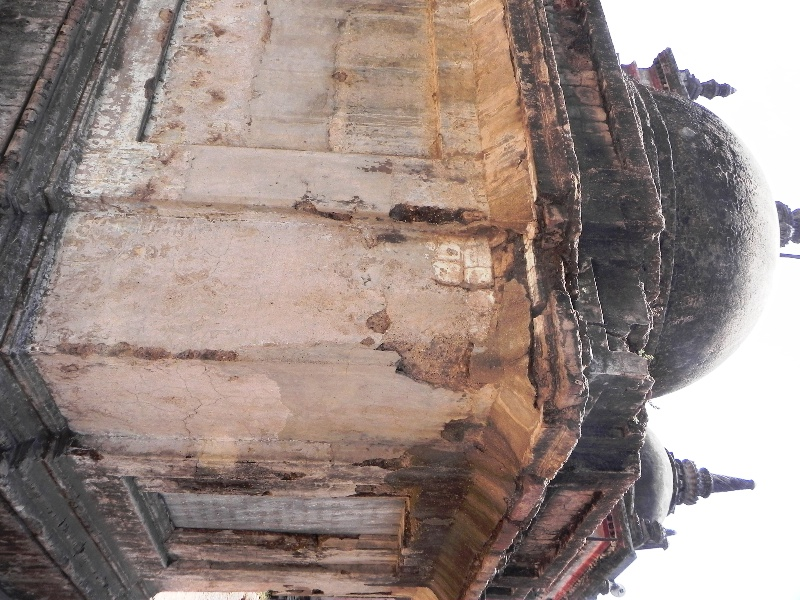Spalling: (358, 303, 489, 393)
